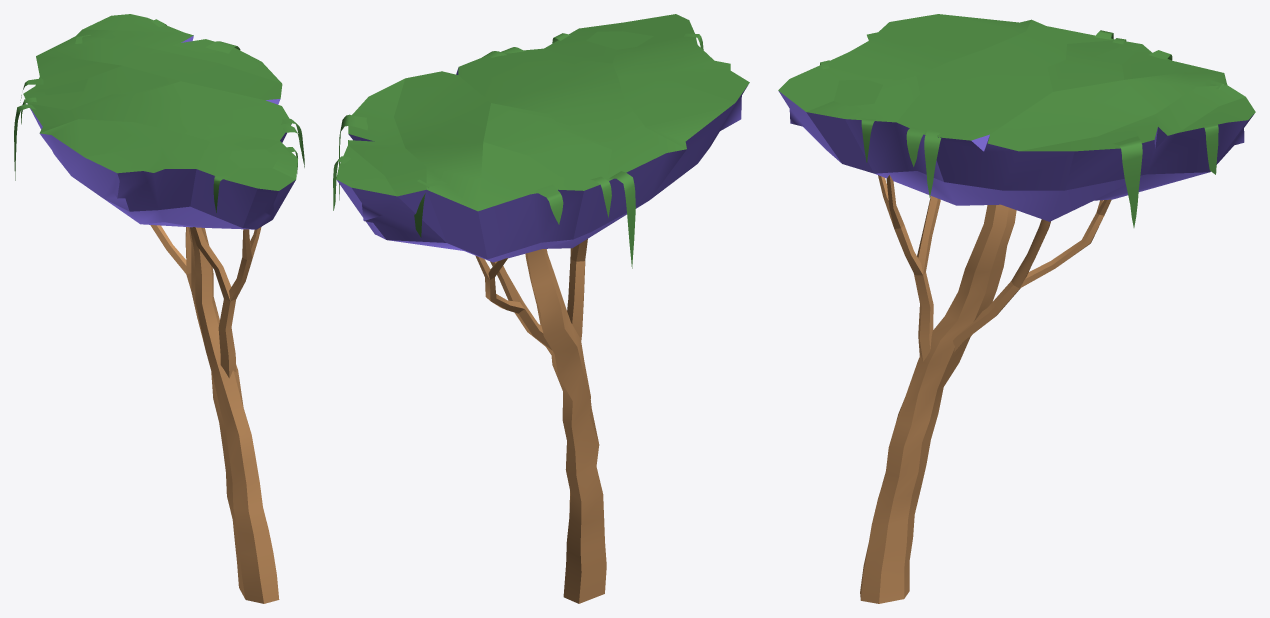
Rendered from tree_B_canopy_B_E_solo_lods.fbx.
3 renders of one model, left to right at view 1: azimuth 30°, elevation 25°; view 2: azimuth 150°, elevation 25°; view 3: azimuth 270°, elevation 25°, orthographic. The views are drawn at different scales.
Parts seen in each view (by area): view 1: tree_B_canopy_B_E_LOD0, tree_B_canopy_B_trunk_A_LOD0, tree_B_canopy_B_trunk_C_LOD0, tree_B_canopy_B_trunk_I_LOD0; view 2: tree_B_canopy_B_E_LOD0, tree_B_canopy_B_trunk_A_LOD0, tree_B_canopy_B_trunk_I_LOD0, tree_B_canopy_B_trunk_C_LOD0, tree_B_canopy_B_liana_H_LOD0; view 3: tree_B_canopy_B_E_LOD0, tree_B_canopy_B_trunk_A_LOD0, tree_B_canopy_B_trunk_C_LOD0, tree_B_canopy_B_trunk_I_LOD0, tree_B_canopy_B_liana_A_LOD0, tree_B_canopy_B_liana_B_LOD0.
Part boxes in pixels (box(x1,y1,x2,y2)): tree_B_canopy_B_E_LOD0: box(23, 14, 297, 229); tree_B_canopy_B_trunk_A_LOD0: box(188, 227, 279, 603); tree_B_canopy_B_trunk_C_LOD0: box(191, 227, 261, 378); tree_B_canopy_B_trunk_I_LOD0: box(150, 225, 191, 290); tree_B_canopy_B_E_LOD0: box(336, 14, 749, 262); tree_B_canopy_B_trunk_A_LOD0: box(525, 249, 606, 603); tree_B_canopy_B_trunk_I_LOD0: box(475, 255, 552, 355); tree_B_canopy_B_trunk_C_LOD0: box(567, 239, 587, 340); tree_B_canopy_B_liana_H_LOD0: box(609, 171, 635, 268); tree_B_canopy_B_E_LOD0: box(778, 14, 1255, 221); tree_B_canopy_B_trunk_A_LOD0: box(860, 204, 1016, 603); tree_B_canopy_B_trunk_C_LOD0: box(878, 175, 940, 361); tree_B_canopy_B_trunk_I_LOD0: box(953, 199, 1111, 351); tree_B_canopy_B_liana_A_LOD0: box(1113, 136, 1142, 227); tree_B_canopy_B_liana_B_LOD0: box(924, 129, 941, 197).
Size of what is drawn, in the model's own units: 215 by 387 by 332.
